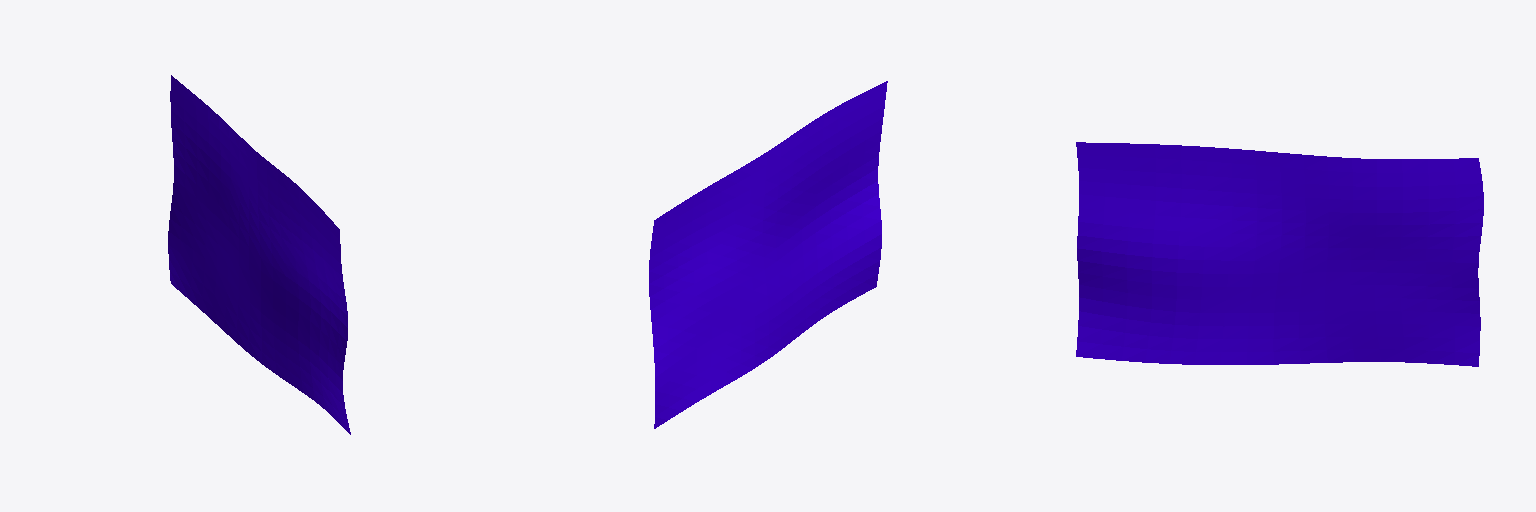
The picture shows the model from 3 angles: view 1: azimuth 30°, elevation 25°; view 2: azimuth 150°, elevation 25°; view 3: azimuth 270°, elevation 25°; orthographic projection.
Visible parts, largest first — view 1: ER2; view 2: ER2; view 3: ER2.
Part boxes in pixels (x1,y1,x2,y2): ER2: (168, 75, 350, 434); ER2: (649, 81, 887, 428); ER2: (1076, 142, 1483, 366).
Bounding box in the file's own units: 0.3563 × 2.05 × 3.54.